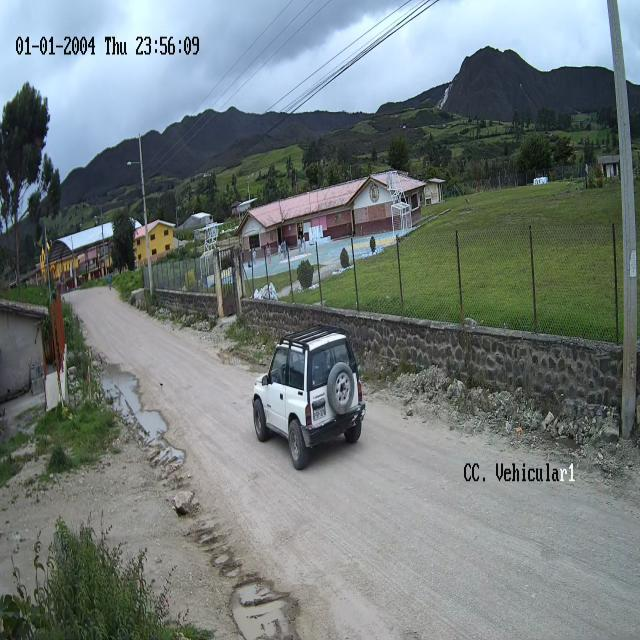SUV: (252, 328, 365, 471)
